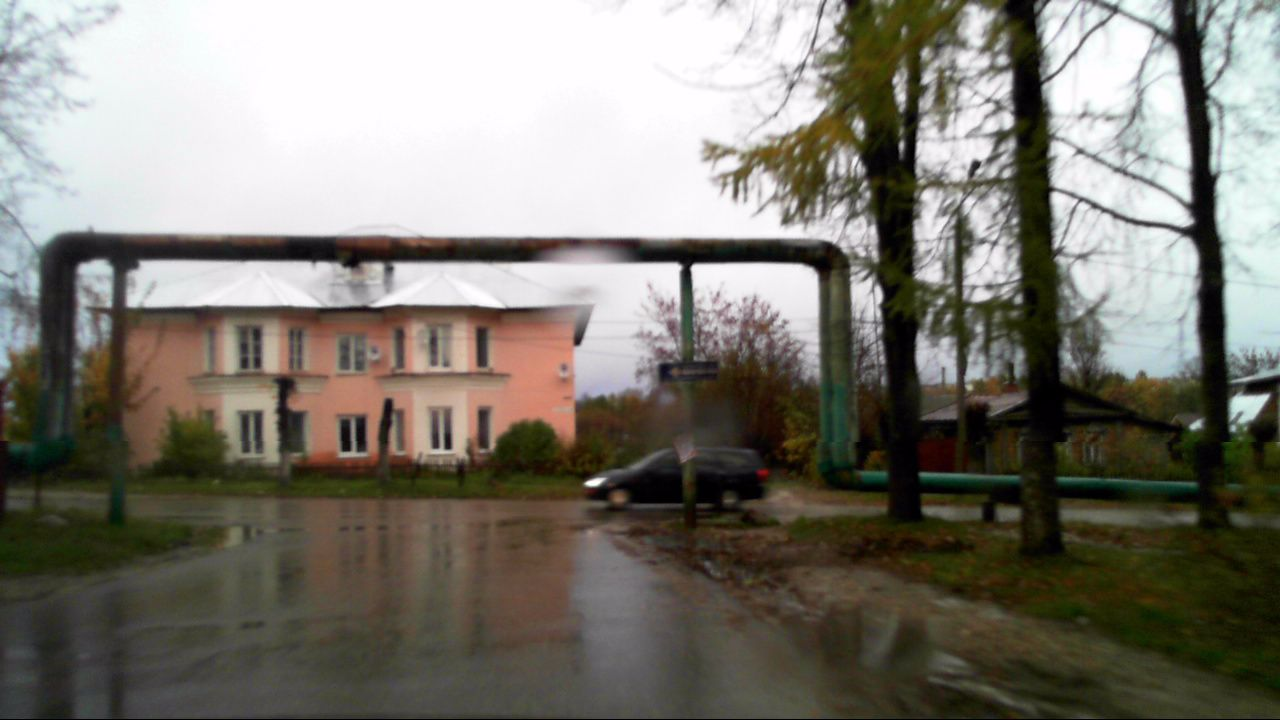One-Way Traffic: (658, 360, 719, 382)
